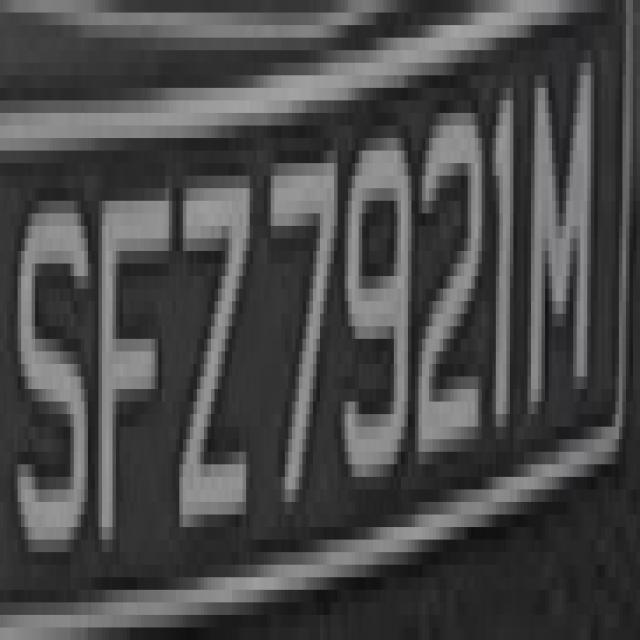1: (492, 50, 520, 477)
2: (408, 88, 482, 502)
7: (246, 126, 341, 540)
9: (331, 113, 418, 502)
F: (95, 163, 172, 552)
M: (524, 50, 601, 452)
S: (3, 151, 95, 577)
Z: (169, 138, 264, 552)
